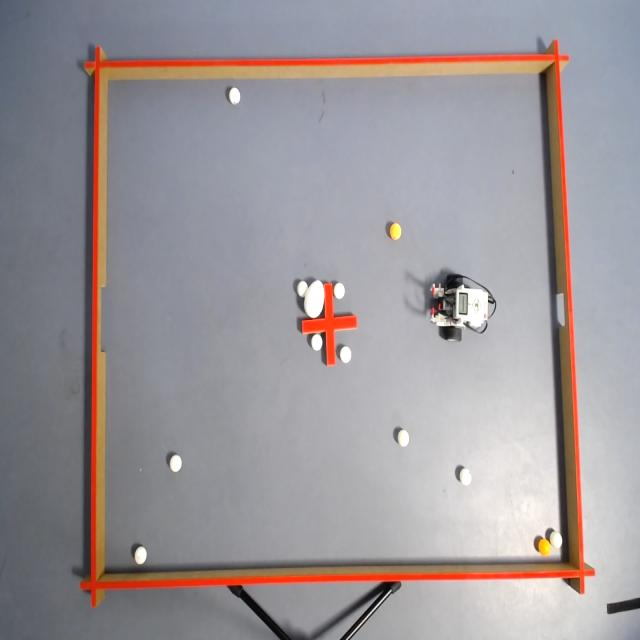boundaries: (546, 36, 600, 600), (73, 555, 595, 609), (83, 38, 571, 86), (79, 44, 113, 614)
cross: (301, 281, 359, 366)
egg: (304, 278, 326, 318)
large_goal: (80, 262, 116, 375)
orange_ball: (387, 220, 403, 245), (537, 534, 550, 558)
robot: (430, 272, 498, 342)
small_goal: (546, 272, 583, 345)
white_ball: (548, 528, 564, 553), (134, 544, 148, 565), (396, 428, 409, 450), (339, 344, 352, 365), (311, 334, 323, 354), (228, 86, 240, 106), (170, 454, 182, 474), (333, 283, 346, 300), (296, 279, 308, 296), (459, 466, 470, 484)
